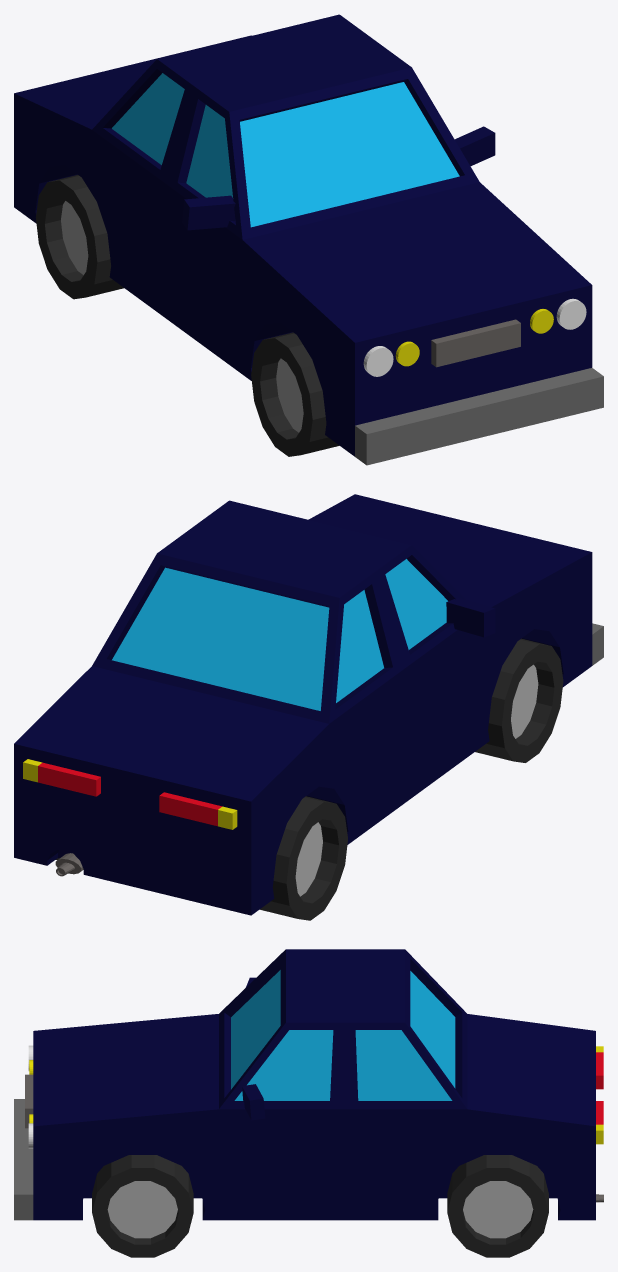
Rendered from Sedan.fbx.
The picture shows the model from 3 angles, top to bottom: view 1: azimuth 30°, elevation 25°; view 2: azimuth 150°, elevation 25°; view 3: azimuth 270°, elevation 25°; orthographic projection. The views are drawn at different scales.
Visible parts, largest first — view 1: sedan, wheel.004, wheel.010; view 2: sedan, wheel.010, wheel.004; view 3: sedan, wheel.010, wheel.003.
Part boxes in pixels (box(x1,y1,x2,y2)): sedan: box(14, 14, 603, 465); wheel.004: box(251, 332, 339, 456); wheel.010: box(35, 175, 123, 299); sedan: box(14, 494, 603, 915); wheel.010: box(55, 796, 347, 920); wheel.004: box(475, 638, 563, 762); sedan: box(14, 949, 603, 1220); wheel.010: box(447, 1155, 548, 1257); wheel.003: box(92, 1155, 193, 1257).
Bounding box in the file's own units: 207 × 172 × 417.
